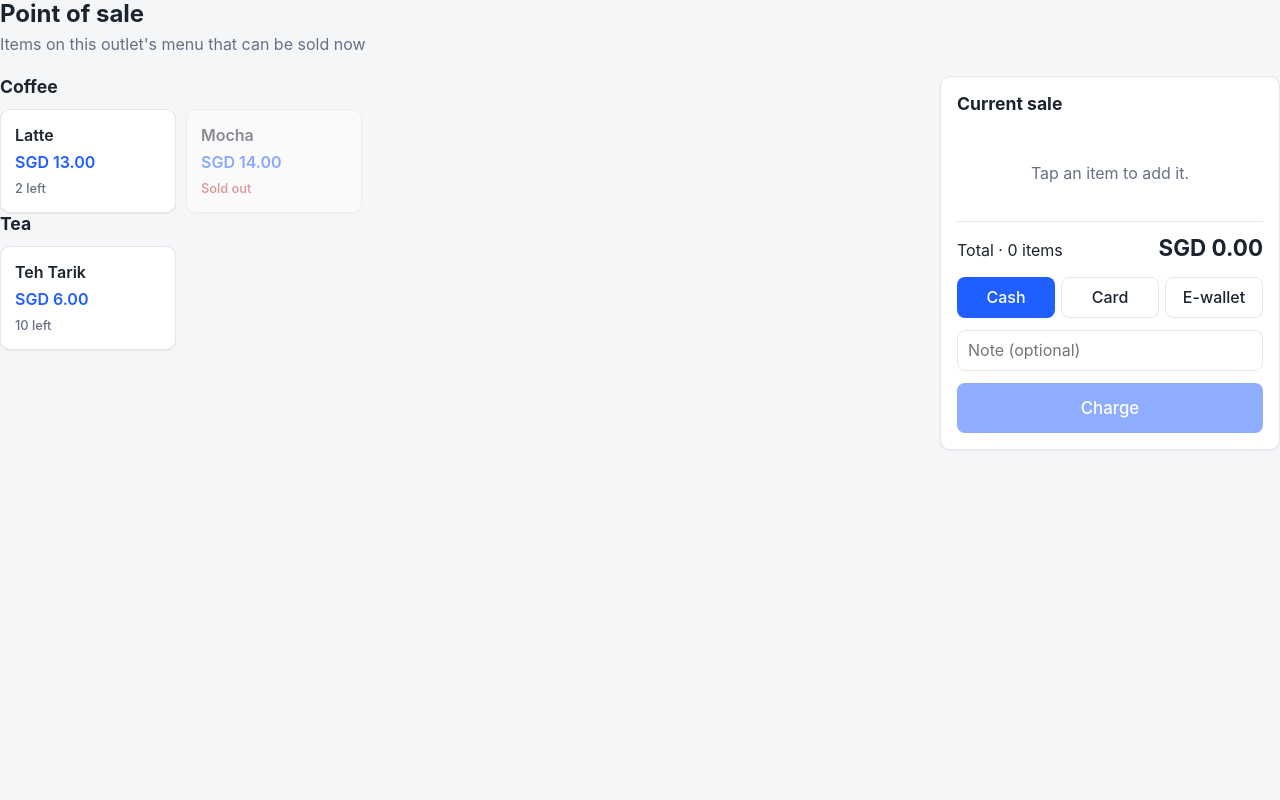
Test case: PosPage › charges the cart with one Idempotency-Key, shows the receipt and clears the cart
Later steps or results of the test are not shown.
expect the text "Latte" is shown: met, box [15,124,54,147]
Click the button "Latte SGD 13.00 2 left": (88, 161) [0,109,176,213]
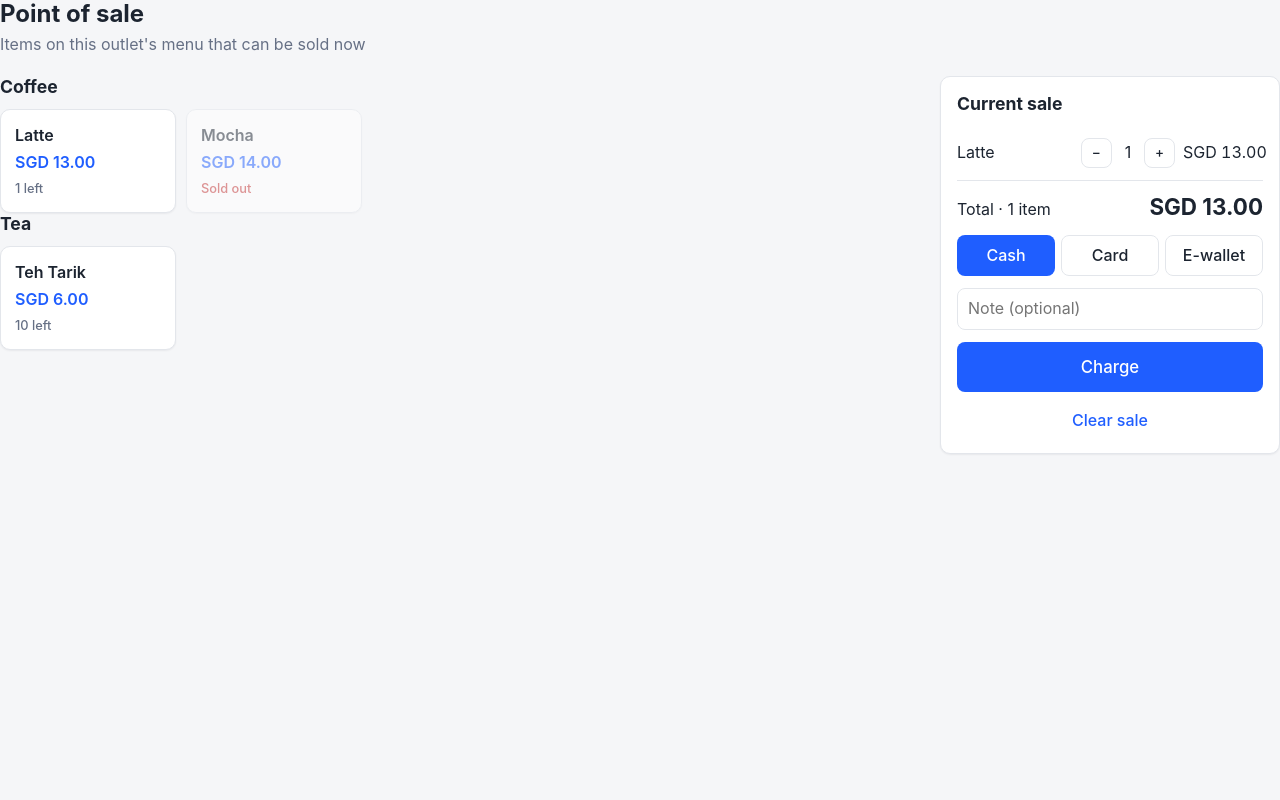
Click the button "Teh Tarik SGD 6.00 10 left": (88, 298) [0,246,176,350]
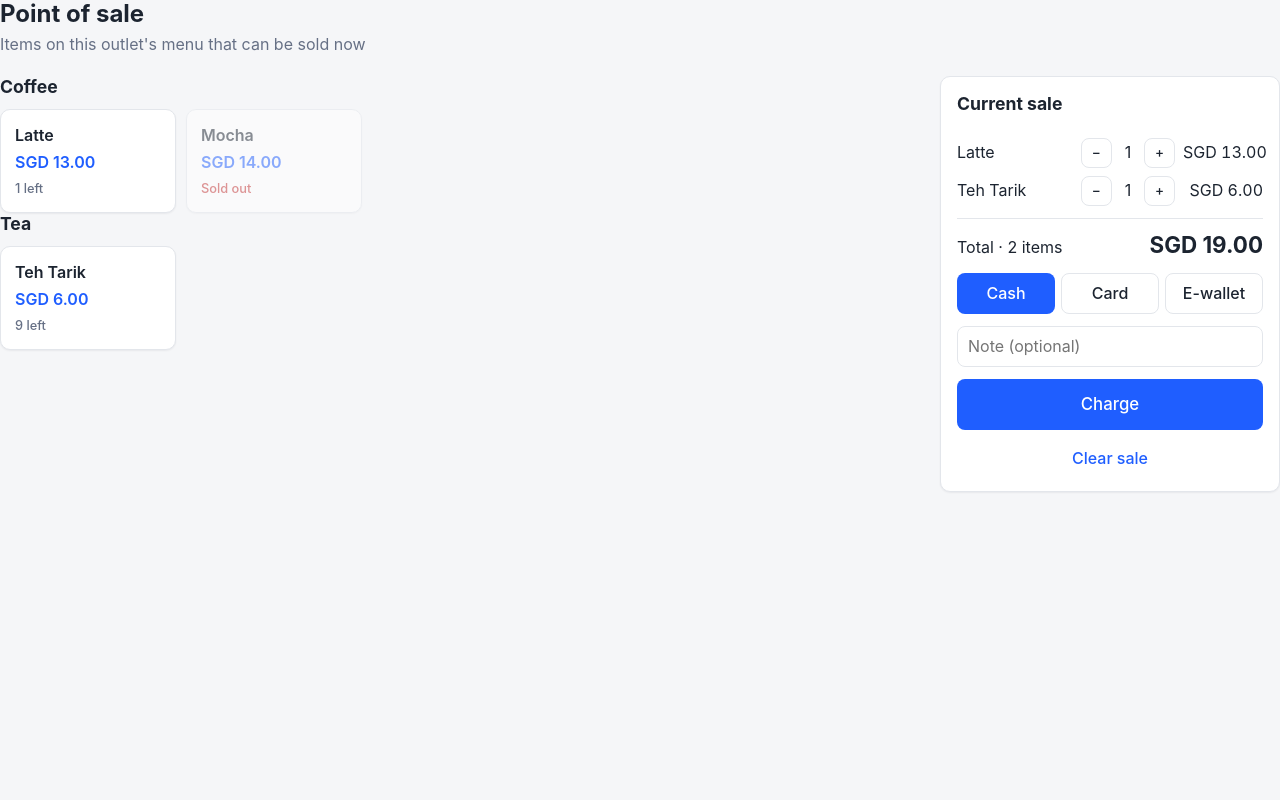
Click the button "Teh Tarik SGD 6.00 9 left": (88, 298) [0,246,176,350]
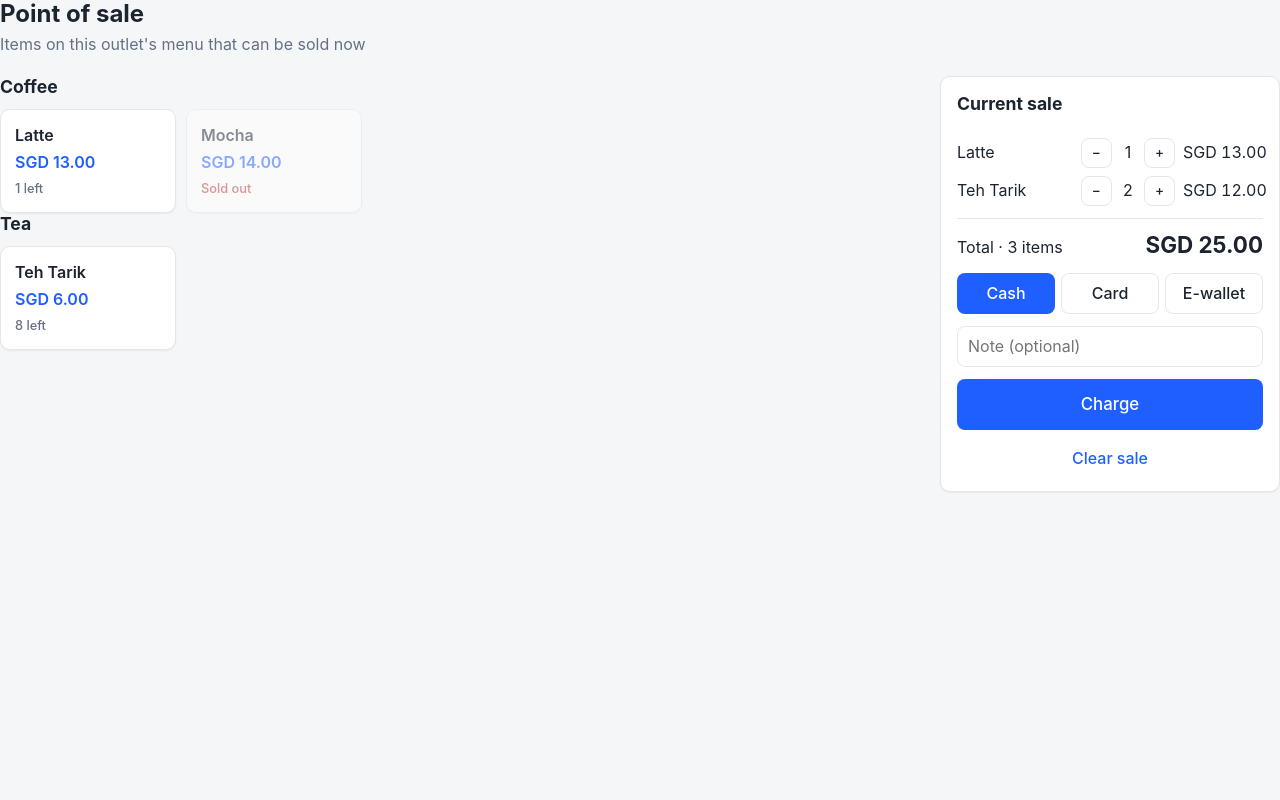
expect the text "Total · 3 items" is shown: met, box [957,236,1063,259]
Click the radio button labelled "Card": (1110, 294) [1061,273,1159,314]
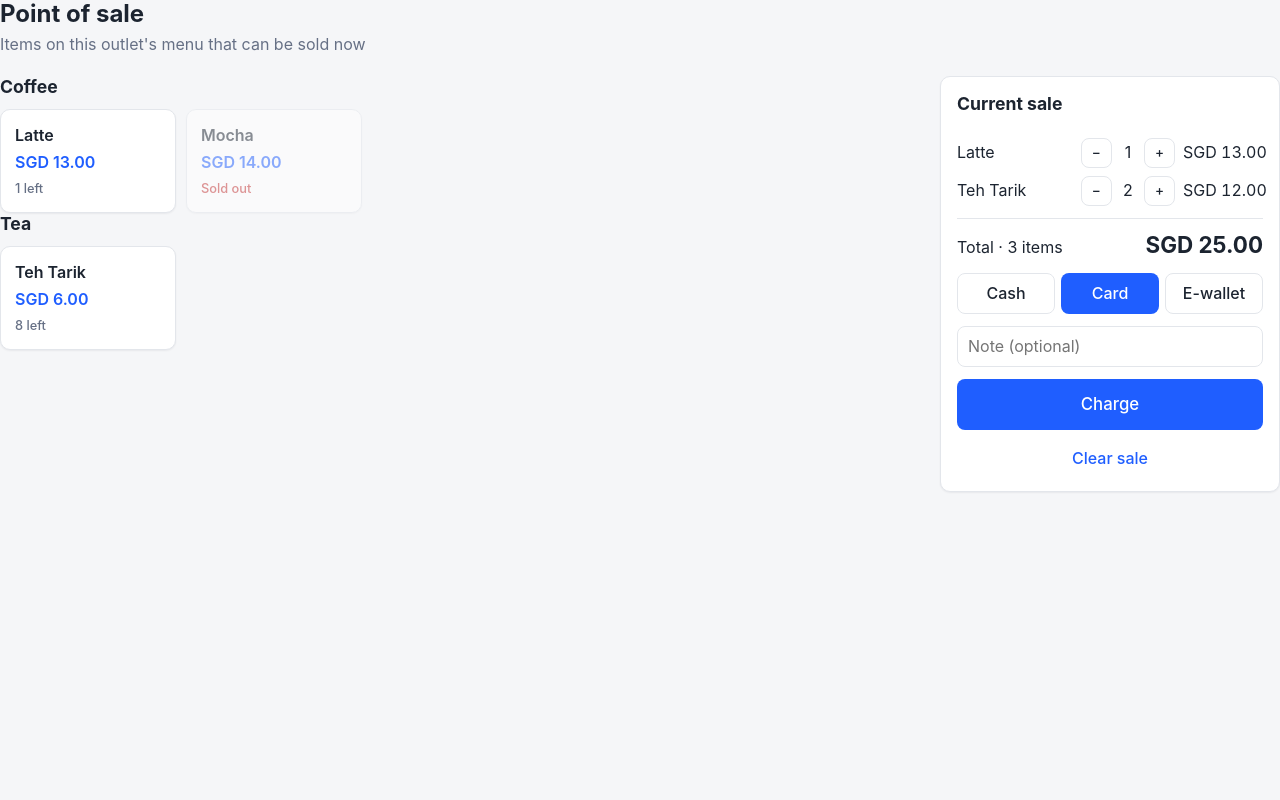
Click the button "Charge": (1110, 405) [957,379,1263,430]
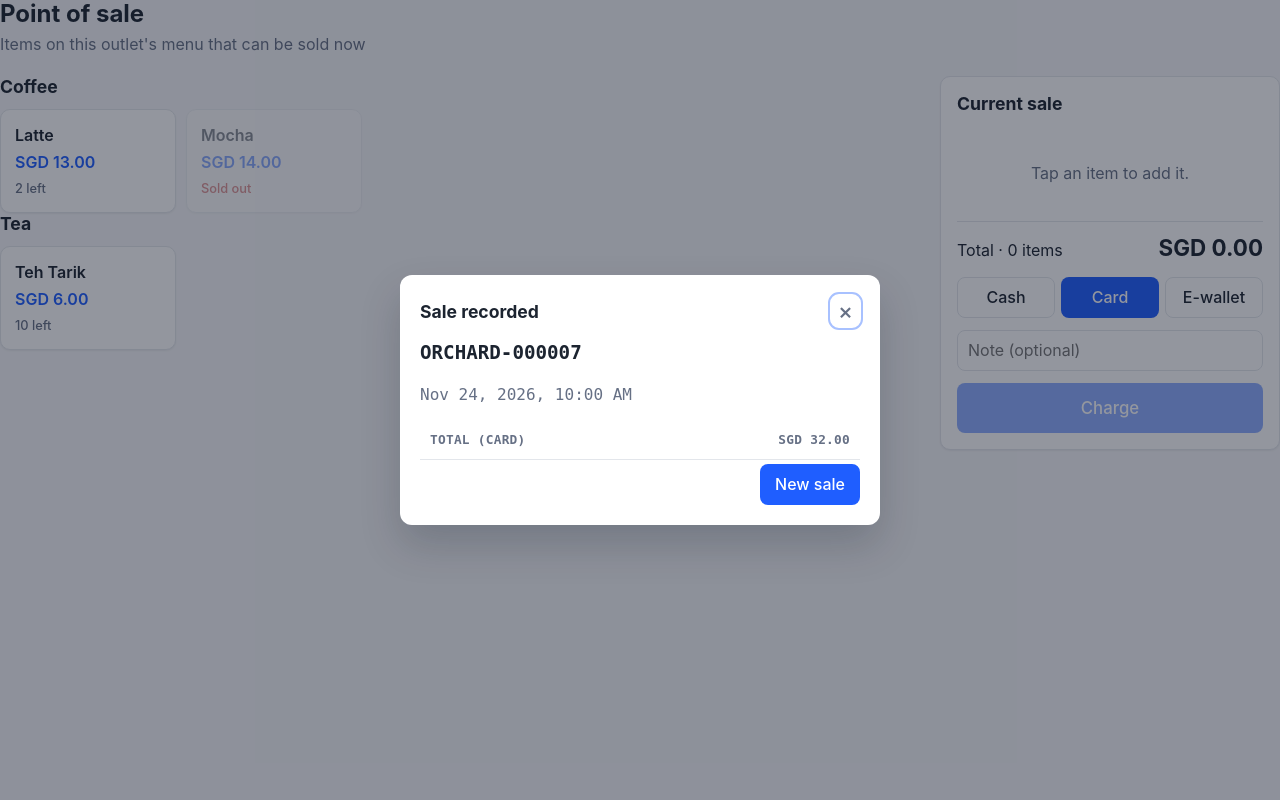
expect the text "ORCHARD-000007" is shown: met, box [420,341,582,364]
